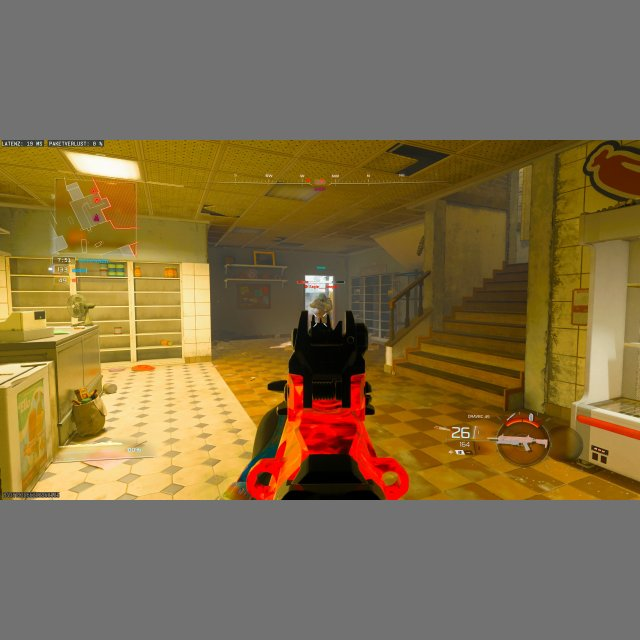head: (318, 292, 326, 301)
player: (66, 292, 95, 324), (311, 292, 332, 327)
